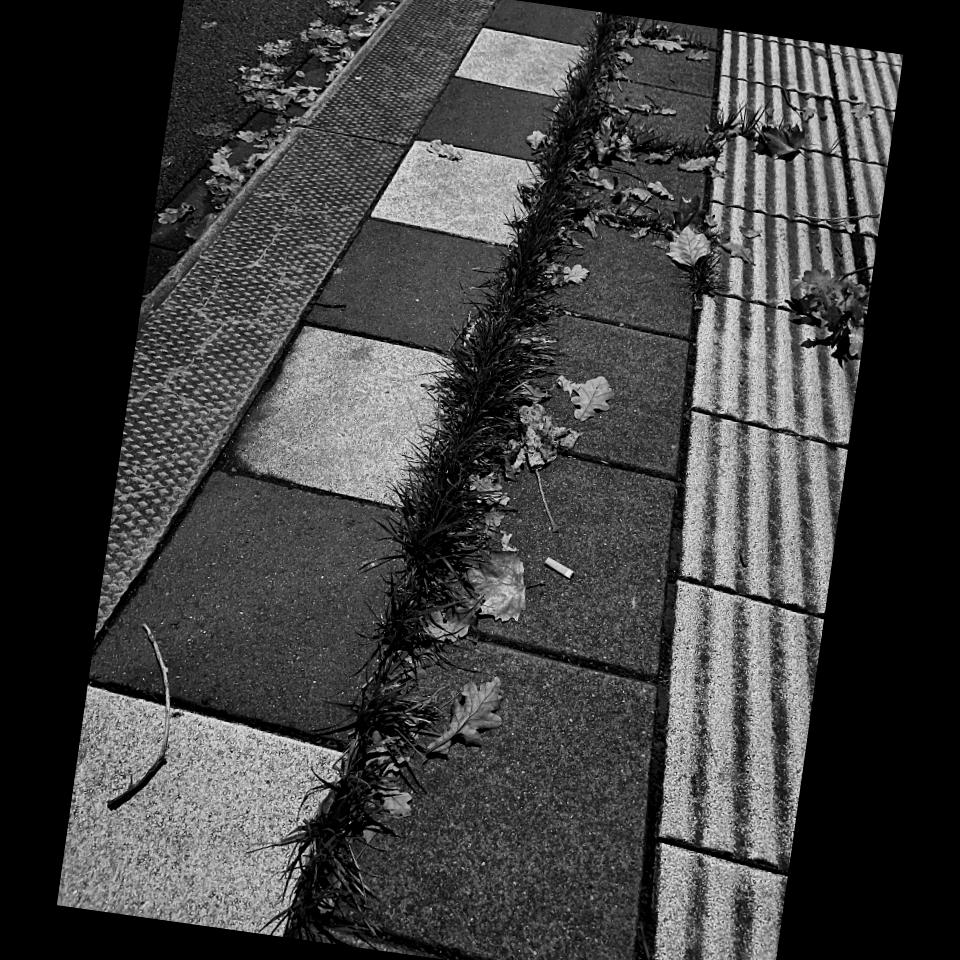weed: (271, 27, 625, 931)
